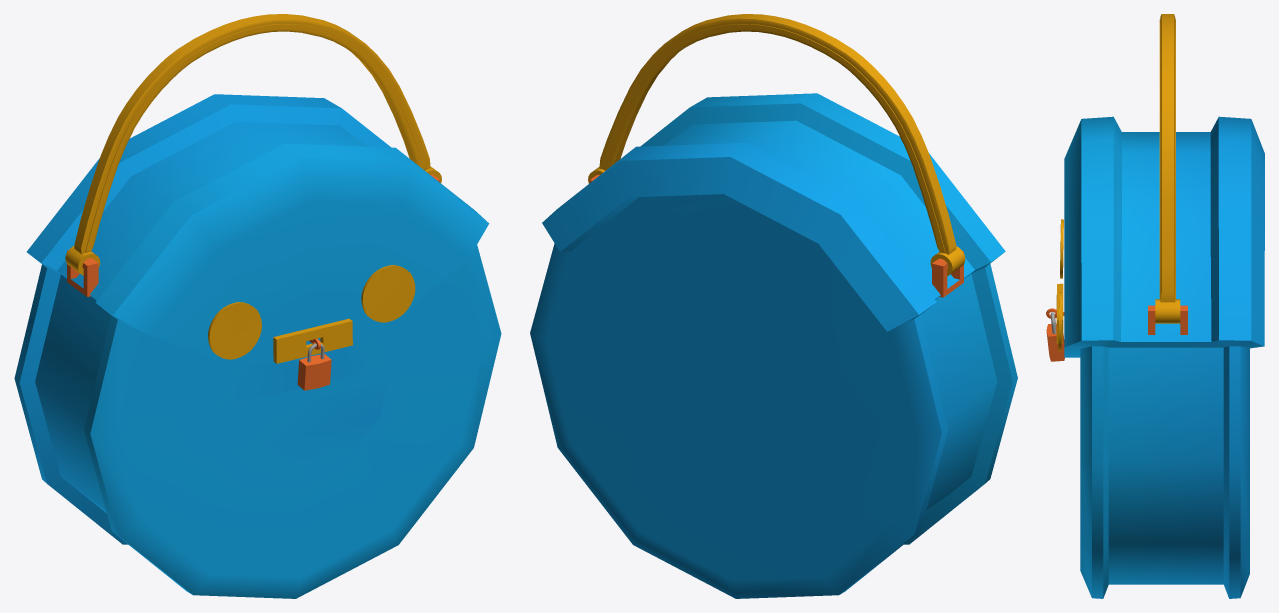
File: bag1.fbx
The picture shows the model from 3 angles, left to right: view 1: azimuth 30°, elevation 25°; view 2: azimuth 150°, elevation 25°; view 3: azimuth 270°, elevation 25°; orthographic projection. The views are drawn at different scales.
Visible parts, largest first — view 1: bag1; view 2: bag1; view 3: bag1.
Part boxes in pixels (x1,y1,x2,y2): bag1: [14, 14, 501, 598]; bag1: [530, 14, 1017, 598]; bag1: [1046, 14, 1264, 598].
Size of the model in its own units: 20.06 by 25.69 by 9.4.
Materials: 1 (1 with a texture image).
